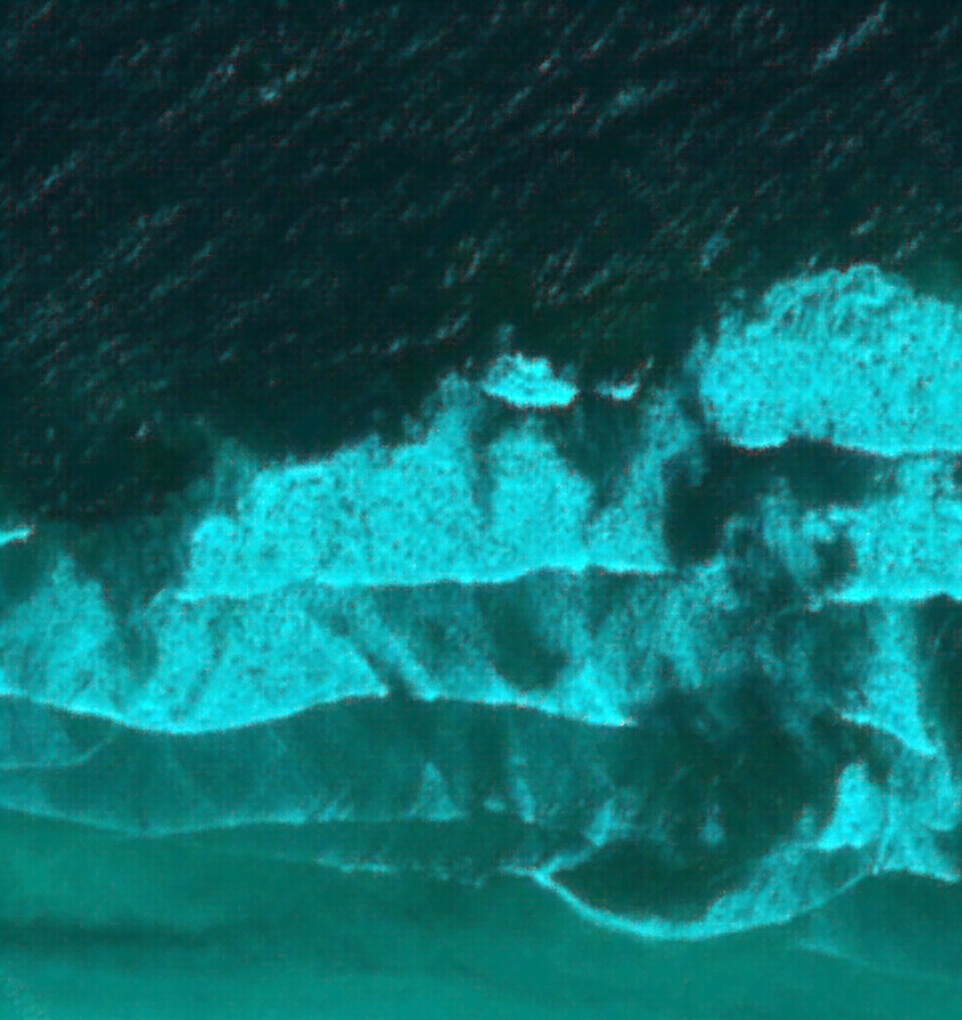rip_current: (566, 372, 895, 877)
